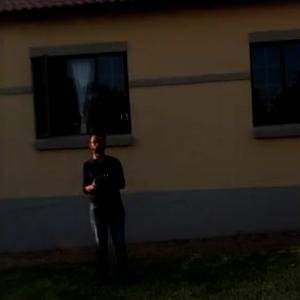follow: (79, 121, 136, 292)
